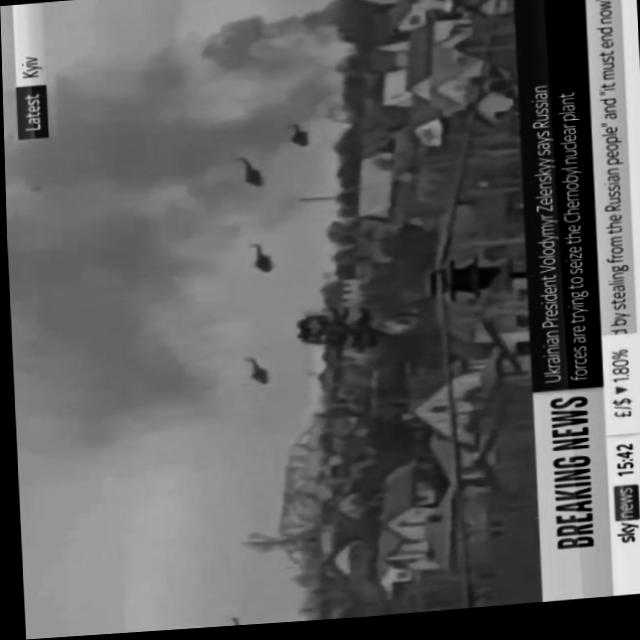helikopter: (220, 234, 292, 290), (211, 146, 275, 205), (216, 349, 288, 400)
